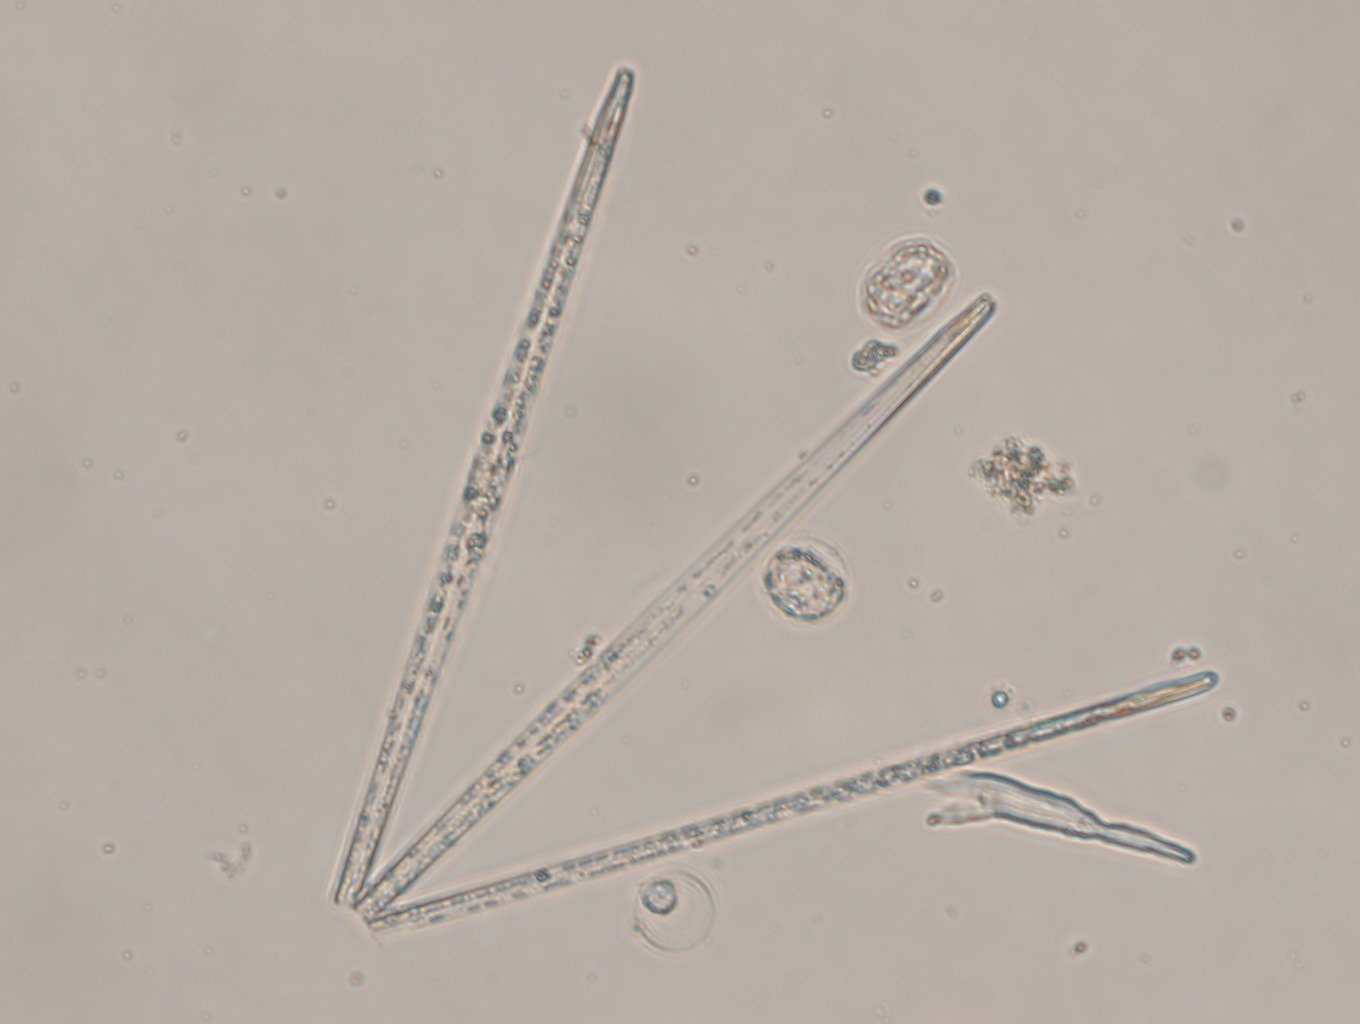thalassionema frauenfeldii: (300, 43, 1252, 943)
